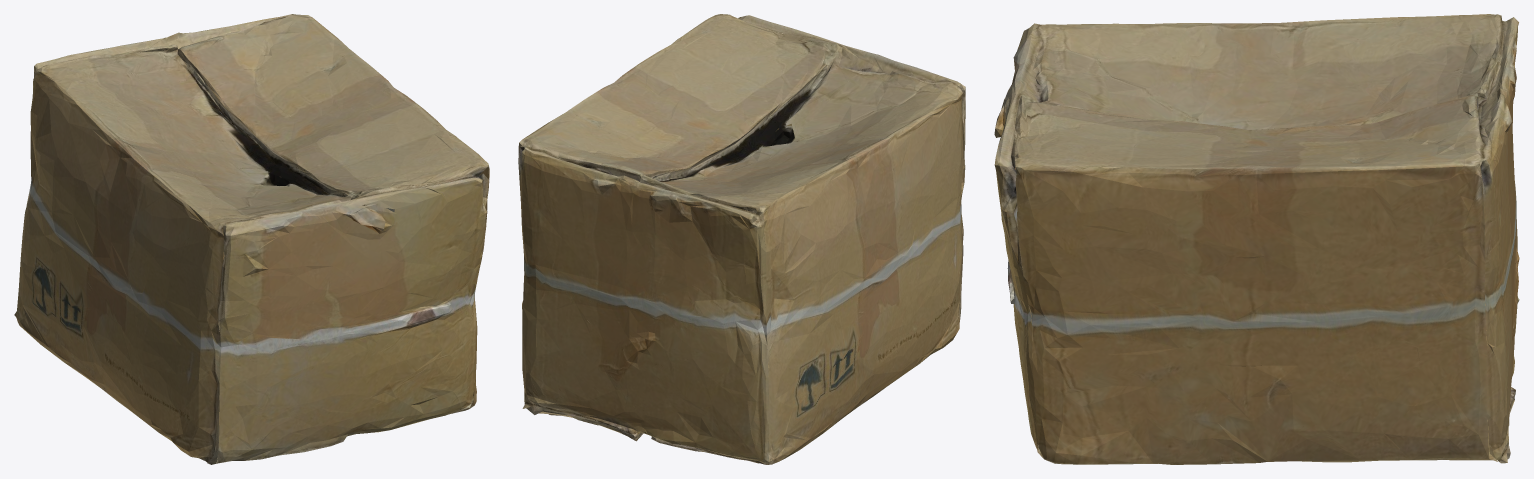
File: EvidenceBox.obj
The picture shows the model from 3 angles, left to right: view 1: azimuth 30°, elevation 25°; view 2: azimuth 150°, elevation 25°; view 3: azimuth 270°, elevation 25°; orthographic projection. The views are drawn at different scales.
Parts seen in each view (by area): view 1: cardboard_box_01; view 2: cardboard_box_01; view 3: cardboard_box_01.
Boxes of the visible parts, x1,y1,x2,y2 form: cardboard_box_01: (14,14,489,464); cardboard_box_01: (518,14,965,464); cardboard_box_01: (994,14,1519,464).
Size of the model in its own units: 0.387 by 0.3411 by 0.5152.
Materials: 1 (1 with a texture image).
